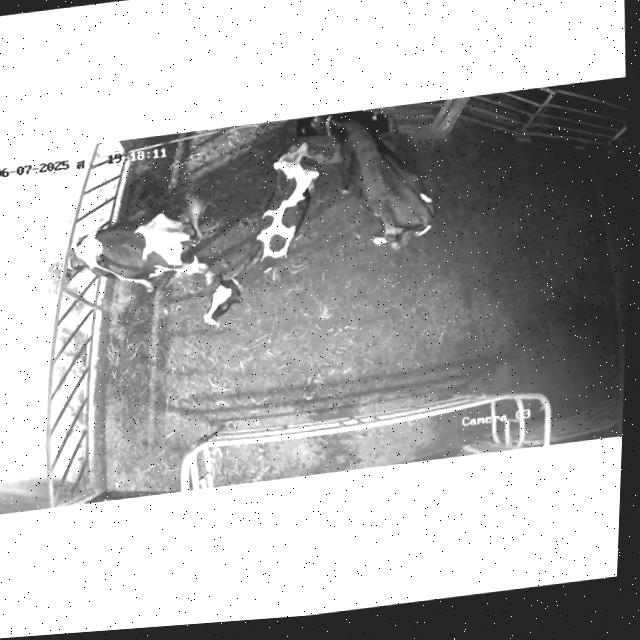stand: (194, 138, 328, 335)
